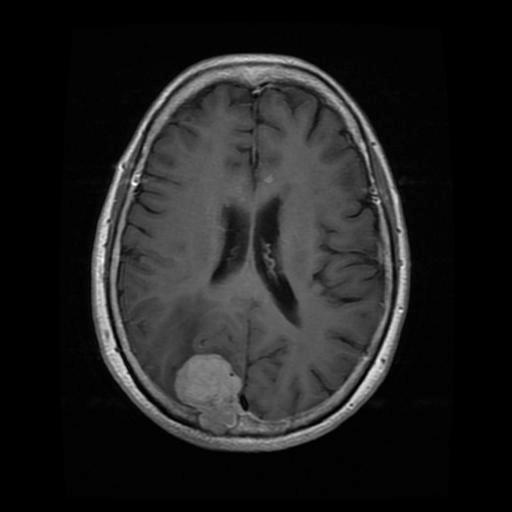Tumour-Meningioma: (148, 333, 262, 429)
